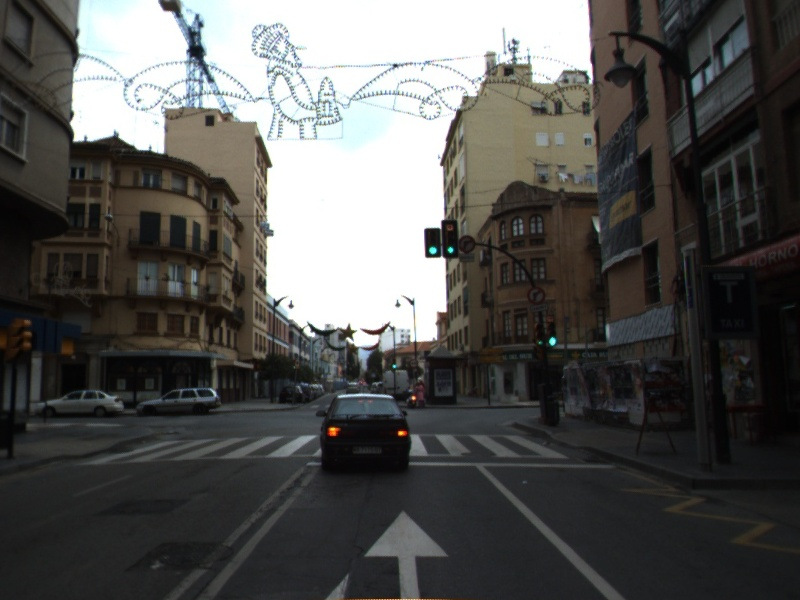STRAIGHT: (360, 506, 454, 600)
